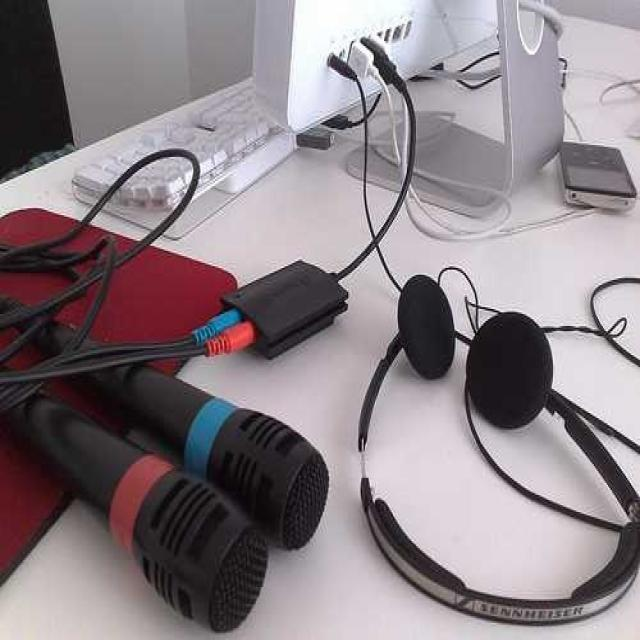microphone: (26, 390, 269, 630), (100, 348, 334, 552)
